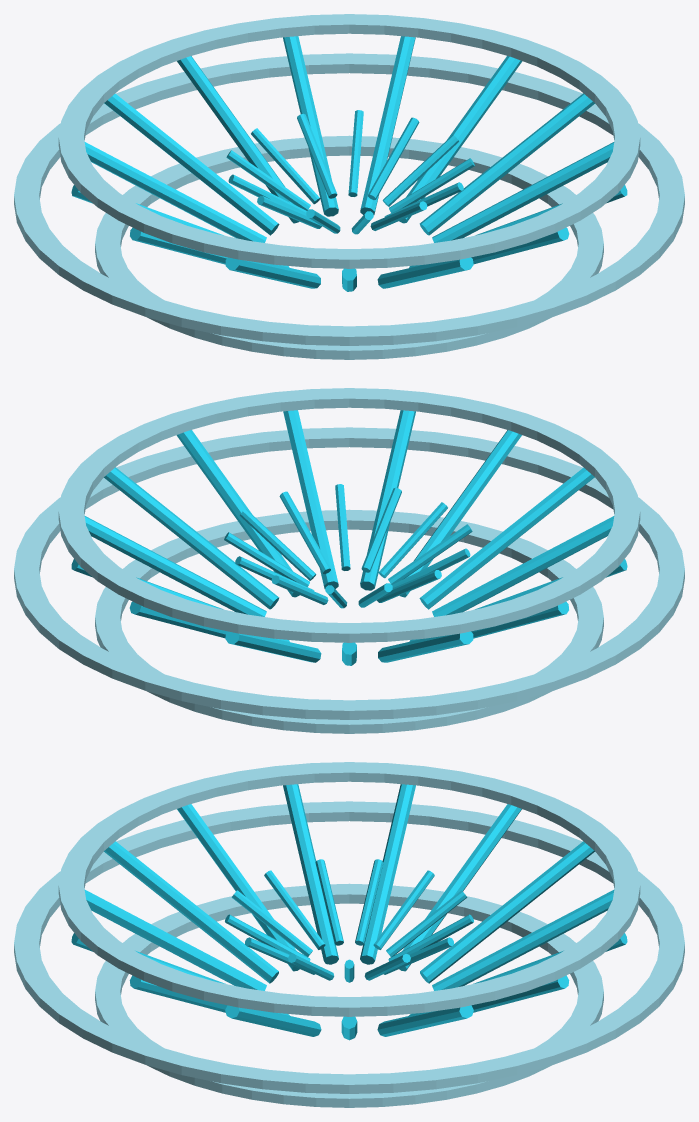
The model's file is 30_L78_LowKPlasmaSource.fbx.
3 views of the same model, one above another, from view 1: azimuth 30°, elevation 25°; view 2: azimuth 150°, elevation 25°; view 3: azimuth 270°, elevation 25° (orthographic).
Parts seen in each view (by area): view 1: LowKPlasmaSource, LowKPlasmaSource_Part_0018, LowKPlasmaSource_Part_0026, LowKPlasmaSource_Part_0030, LowKPlasmaSource_Part_0027, LowKPlasmaSource_Part_0028, LowKPlasmaSource_Part_0019, LowKPlasmaSource_Part_0029, LowKPlasmaSource_Part_0024, LowKPlasmaSource_Part_0025, LowKPlasmaSource_Part_0021; view 2: LowKPlasmaSource, LowKPlasmaSource_Part_0018, LowKPlasmaSource_Part_0023, LowKPlasmaSource_Part_0019, LowKPlasmaSource_Part_0022, LowKPlasmaSource_Part_0021, LowKPlasmaSource_Part_0030, LowKPlasmaSource_Part_0020, LowKPlasmaSource_Part_0025, LowKPlasmaSource_Part_0024, LowKPlasmaSource_Part_0028; view 3: LowKPlasmaSource, LowKPlasmaSource_Part_0022, LowKPlasmaSource_Part_0027, LowKPlasmaSource_Part_0023, LowKPlasmaSource_Part_0026, LowKPlasmaSource_Part_0024, LowKPlasmaSource_Part_0025, LowKPlasmaSource_Part_0021, LowKPlasmaSource_Part_0028, LowKPlasmaSource_Part_0020, LowKPlasmaSource_Part_0029.
Boxes of the visible parts, box(x1,y1,x2,y2) form: LowKPlasmaSource: box(14, 14, 684, 359); LowKPlasmaSource_Part_0018: box(382, 135, 458, 206); LowKPlasmaSource_Part_0026: box(226, 150, 310, 210); LowKPlasmaSource_Part_0030: box(368, 117, 419, 199); LowKPlasmaSource_Part_0027: box(251, 128, 320, 204); LowKPlasmaSource_Part_0028: box(297, 113, 337, 198); LowKPlasmaSource_Part_0019: box(389, 158, 474, 212); LowKPlasmaSource_Part_0029: box(348, 110, 363, 196); LowKPlasmaSource_Part_0024: box(257, 196, 322, 228); LowKPlasmaSource_Part_0025: box(228, 174, 306, 213); LowKPlasmaSource_Part_0021: box(370, 201, 427, 230); LowKPlasmaSource: box(14, 388, 684, 733); LowKPlasmaSource_Part_0018: box(240, 509, 316, 580); LowKPlasmaSource_Part_0023: box(388, 524, 472, 584); LowKPlasmaSource_Part_0019: box(279, 491, 330, 573); LowKPlasmaSource_Part_0022: box(378, 502, 447, 578); LowKPlasmaSource_Part_0021: box(361, 487, 401, 572); LowKPlasmaSource_Part_0030: box(224, 532, 309, 586); LowKPlasmaSource_Part_0020: box(335, 484, 350, 570); LowKPlasmaSource_Part_0025: box(376, 570, 441, 602); LowKPlasmaSource_Part_0024: box(392, 548, 470, 587); LowKPlasmaSource_Part_0028: box(271, 575, 328, 604); LowKPlasmaSource: box(14, 762, 684, 1107); LowKPlasmaSource_Part_0022: box(231, 890, 312, 956); LowKPlasmaSource_Part_0027: box(386, 890, 467, 956); LowKPlasmaSource_Part_0023: box(264, 870, 325, 949); LowKPlasmaSource_Part_0026: box(373, 870, 434, 949); LowKPlasmaSource_Part_0024: box(315, 859, 343, 945); LowKPlasmaSource_Part_0025: box(355, 859, 383, 945); LowKPlasmaSource_Part_0021: box(225, 914, 310, 961); LowKPlasmaSource_Part_0028: box(388, 914, 473, 961); LowKPlasmaSource_Part_0020: box(245, 937, 314, 974); LowKPlasmaSource_Part_0029: box(384, 937, 453, 974).
Size of the model in its own units: 240 by 46.28 by 240.
